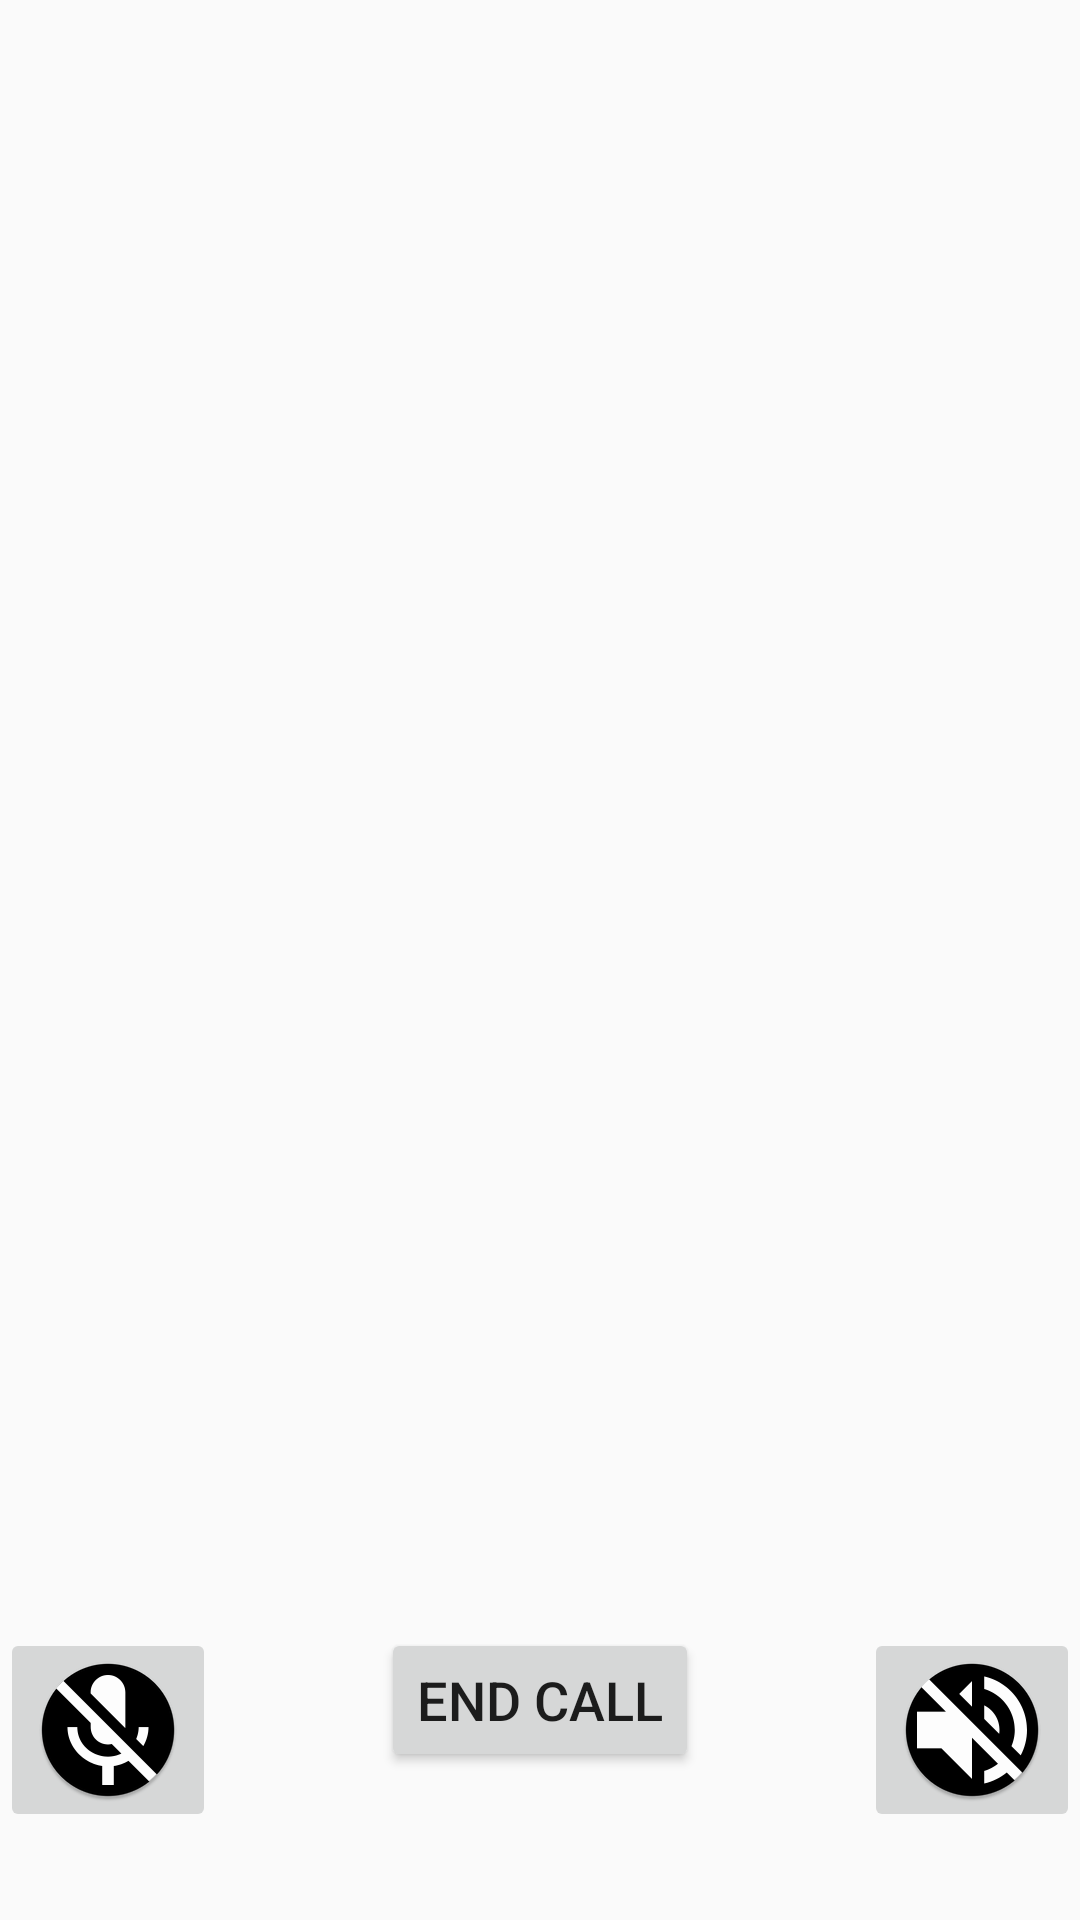

Icon bounding boxes for this 1080px x 1920px phone screenshot, format detection(x1, y1, x2, y2):
mute: detection(12, 1646, 204, 1814)
speaker: detection(876, 1646, 1068, 1814)
